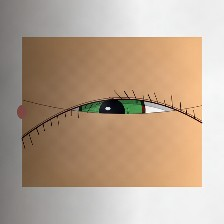hemorrhage_spot: (81, 88, 152, 145)
